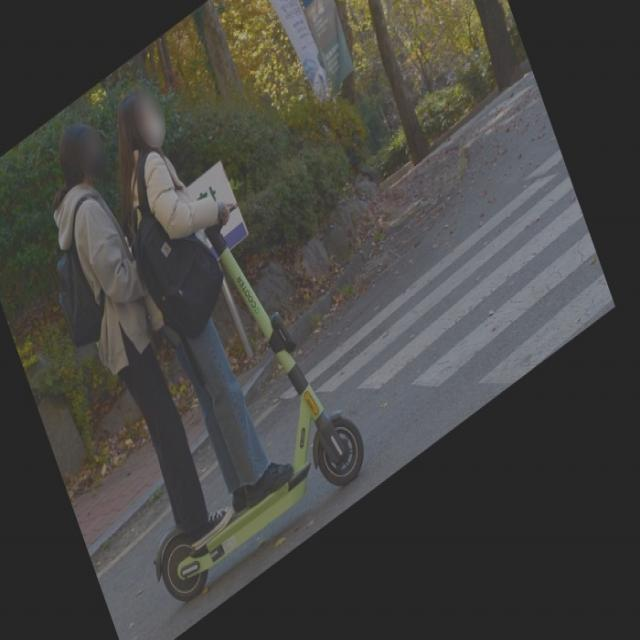bare_head: (111, 95, 180, 157), (56, 121, 114, 186)
human: (107, 80, 296, 500), (49, 126, 227, 539)
kickboard: (167, 401, 367, 613)
